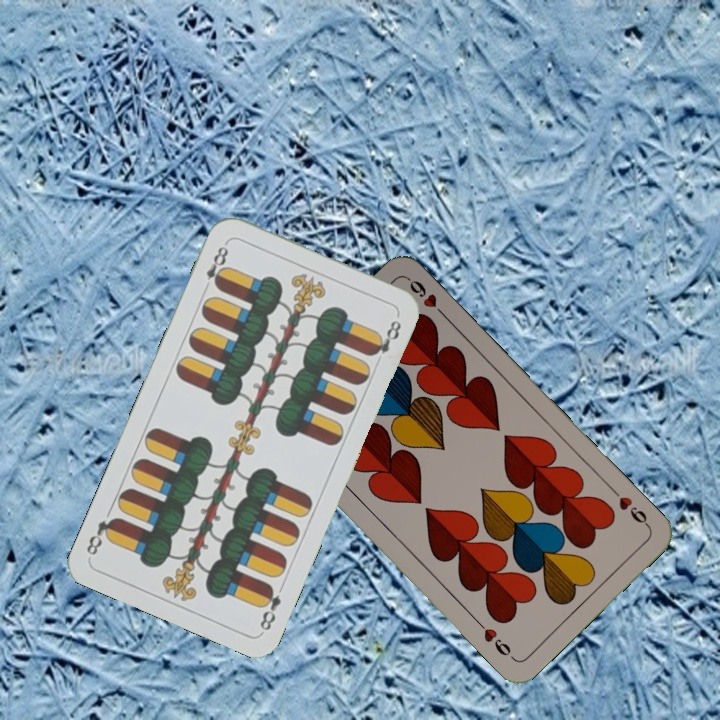E8: (199, 238, 232, 293), (255, 581, 284, 634)
H9: (607, 483, 652, 530)
